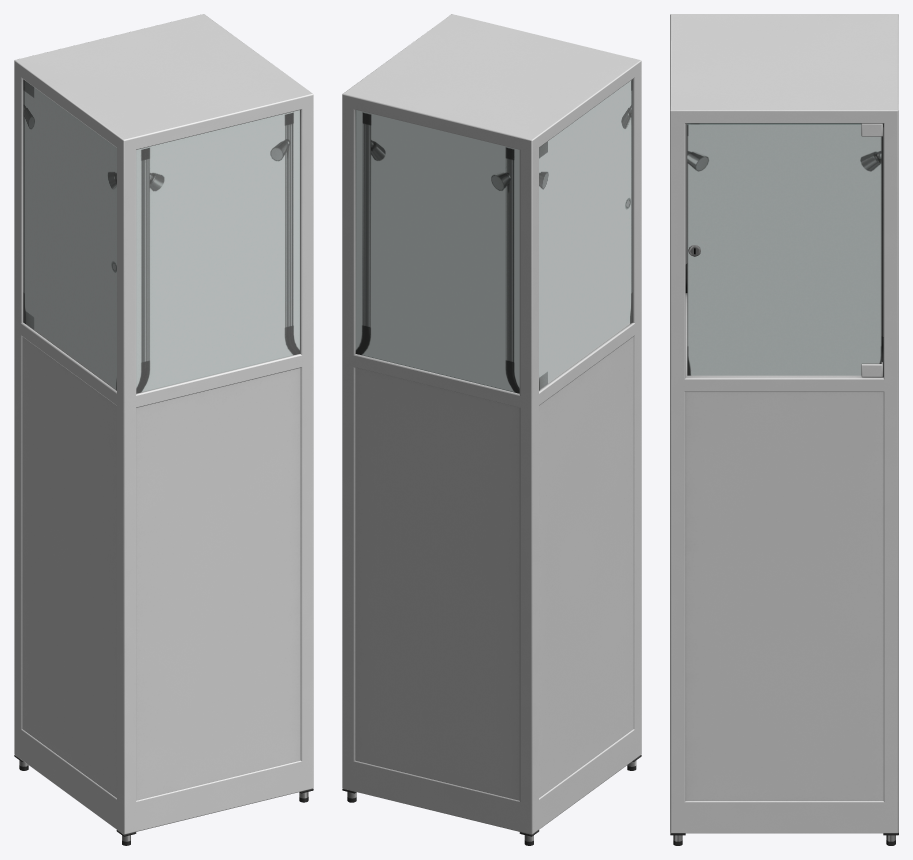
Rendered from bardolino_white_aluminium.glb.
3 renders of one model, left to right at view 1: azimuth 30°, elevation 25°; view 2: azimuth 150°, elevation 25°; view 3: azimuth 270°, elevation 25°, orthographic. The views are drawn at different scales.
Visible parts, largest first — view 1: bardolino-white_body, bardolino-white_glass; view 2: bardolino-white_body, bardolino-white_glass; view 3: bardolino-white_body, bardolino-white_glass.
Part boxes in pixels (<box>): bardolino-white_body: <box>14,14,313,845</box>; bardolino-white_glass: <box>23,79,299,393</box>; bardolino-white_body: <box>342,14,641,845</box>; bardolino-white_glass: <box>355,79,632,393</box>; bardolino-white_body: <box>670,14,898,845</box>; bardolino-white_glass: <box>687,123,881,375</box>.
Bounding box in the file's own units: 0.4502 × 1.6 × 0.4502.
2 materials, 2 textured.
